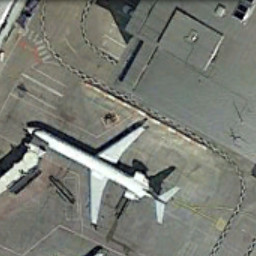Airplane: (16, 105, 199, 240)
